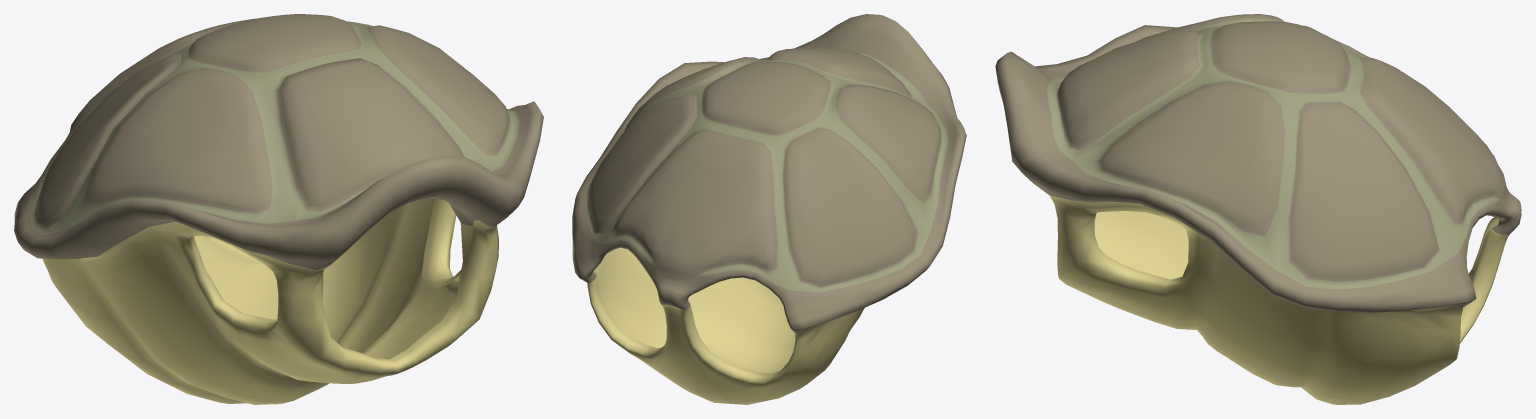
Rendered from just_shell.fbx.
3 renders of one model, left to right at view 1: azimuth 30°, elevation 25°; view 2: azimuth 150°, elevation 25°; view 3: azimuth 270°, elevation 25°, orthographic. The views are drawn at different scales.
Parts seen in each view (by area): view 1: Plane.004; view 2: Plane.004; view 3: Plane.004.
Part boxes in pixels (bbox=[...]): Plane.004: bbox=[14, 14, 543, 404]; Plane.004: bbox=[572, 14, 966, 404]; Plane.004: bbox=[995, 14, 1521, 404].
Bounding box in the file's own units: 309 × 254 × 338.
